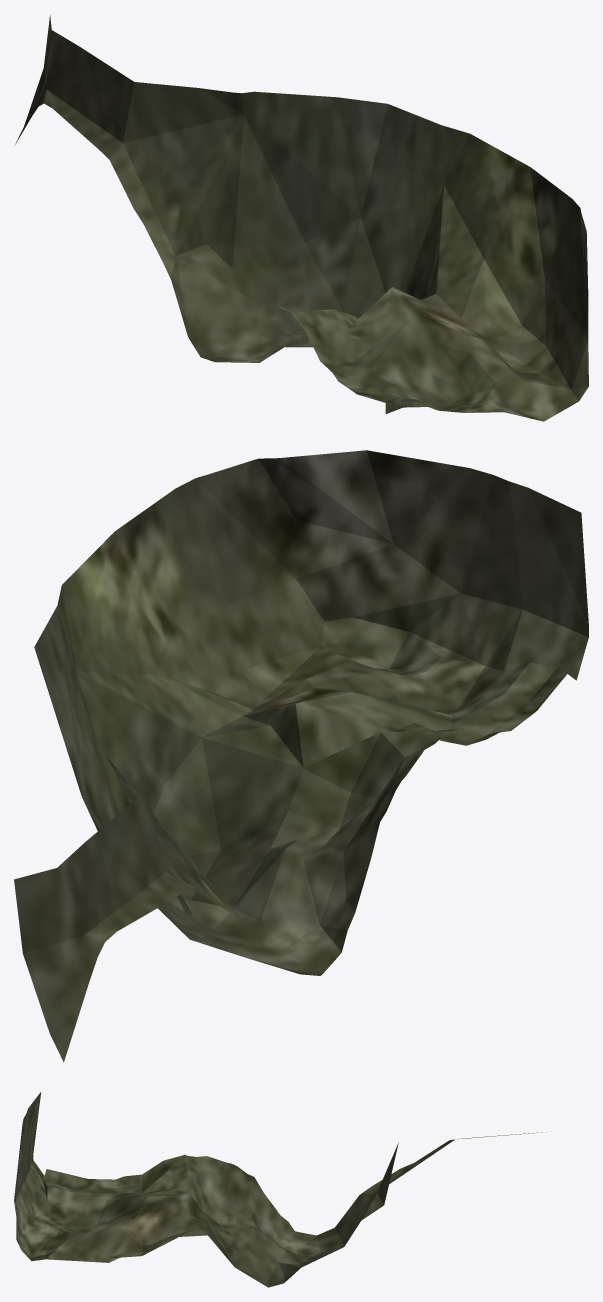
3 renders of one model, top to bottom at view 1: azimuth 30°, elevation 25°; view 2: azimuth 150°, elevation 25°; view 3: azimuth 270°, elevation 25°, orthographic. The views are drawn at different scales.
Size of the model in its own units: 0.9905 by 0.7828 by 2.82.
1 material, 1 textured.
